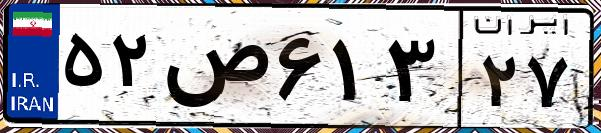1: (330, 28, 385, 110)
2: (475, 38, 525, 113), (110, 28, 158, 98)
3: (385, 28, 445, 110)
5: (57, 26, 110, 100)
6: (270, 28, 330, 110)
7: (525, 38, 570, 115)
ص: (158, 20, 270, 120)
